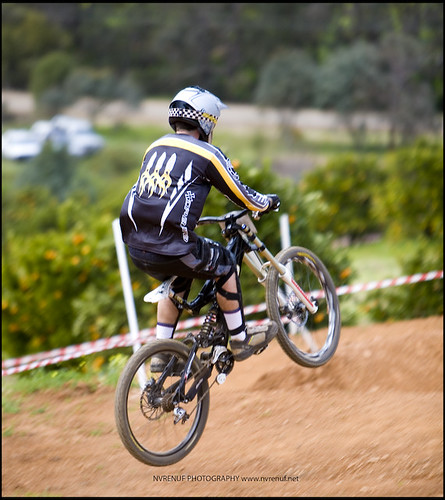helmet: (162, 82, 227, 140)
